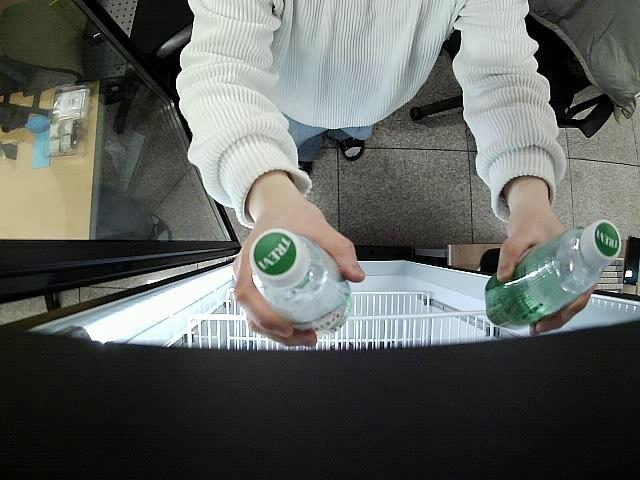18_trevi: (484, 220, 624, 331), (249, 230, 353, 334)
